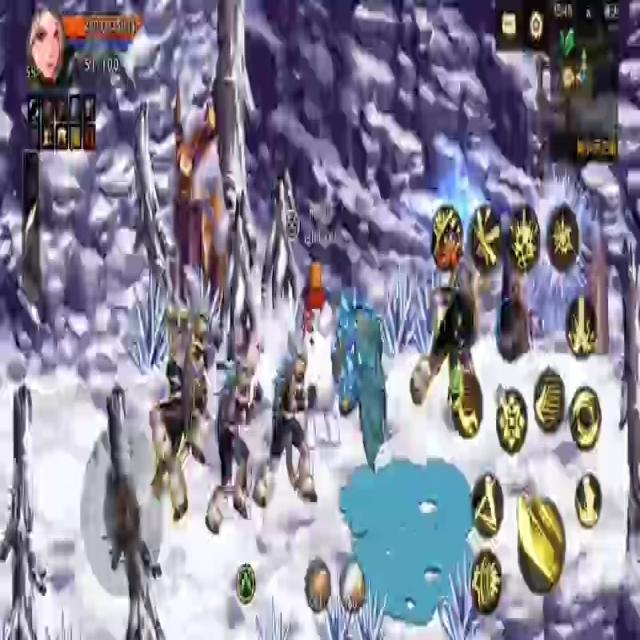player: (292, 258, 342, 452)
